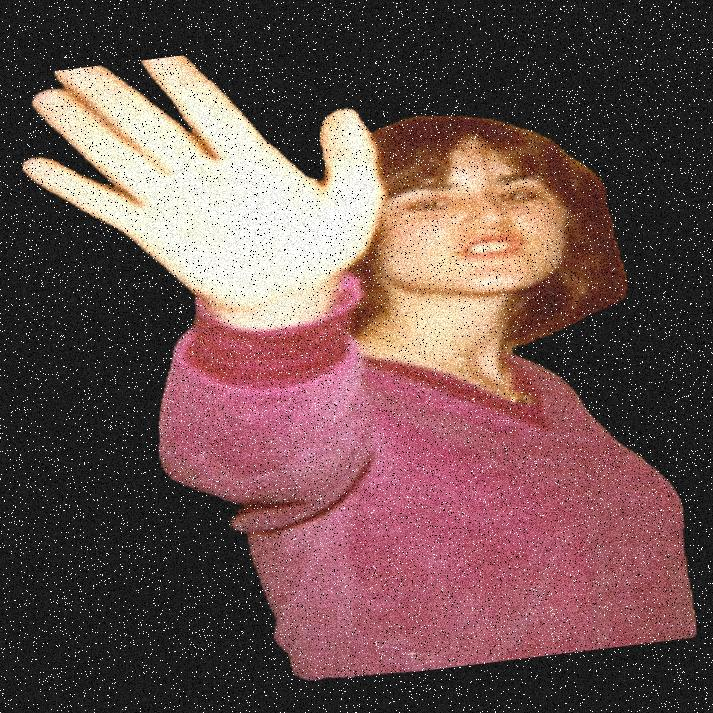Pessoa: (183, 0, 621, 712)
